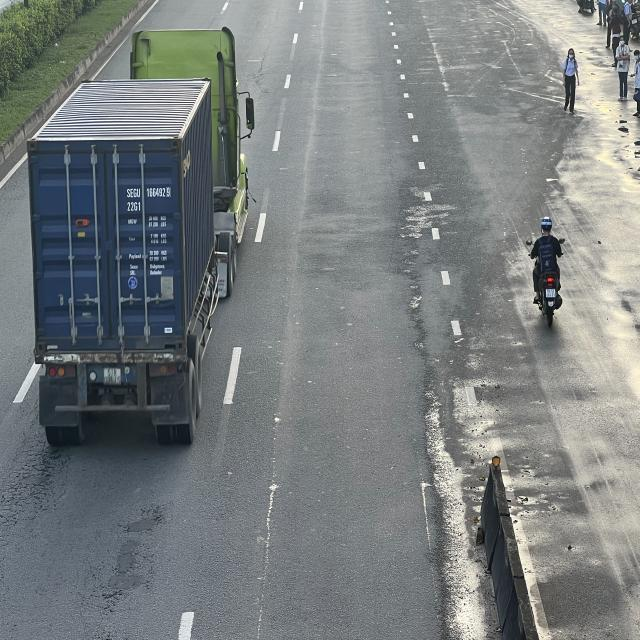container: (30, 24, 261, 442)
